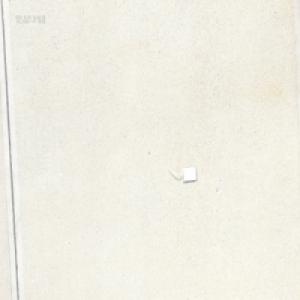LuggageTag: (167, 165, 197, 182)
